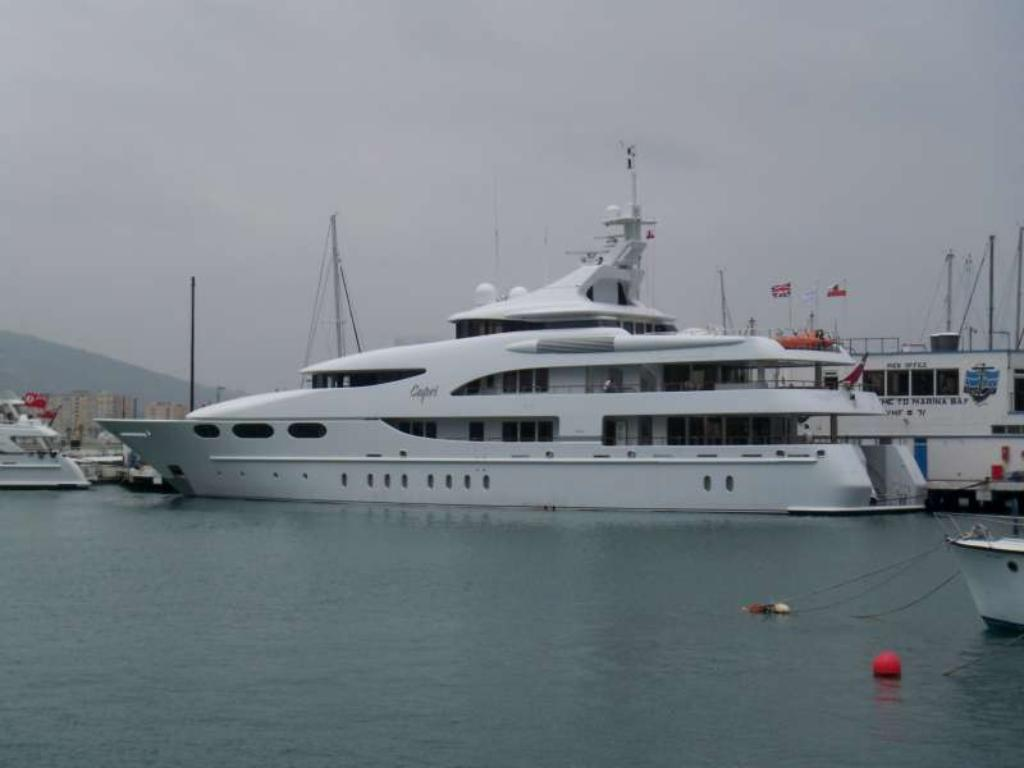PassengerShip: (88, 156, 952, 516), (0, 346, 94, 498)
